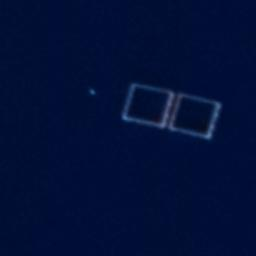square_solid: (117, 79, 181, 134), (165, 90, 225, 146)
